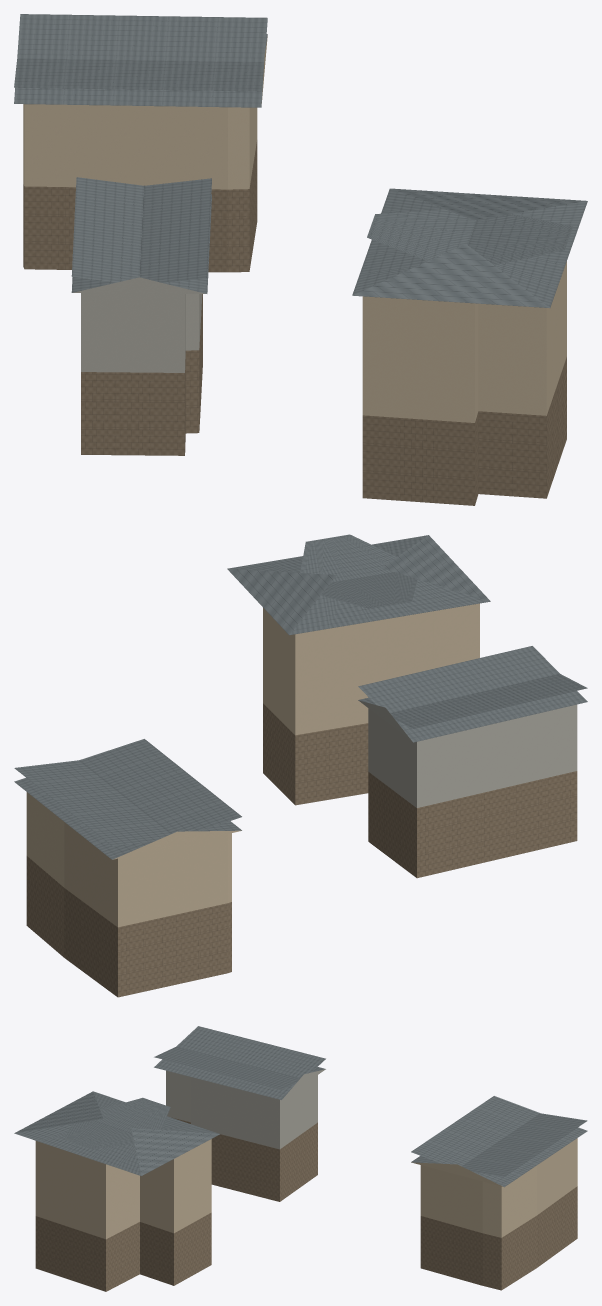
The model's file is bld_c32_-40_451.gltf.
The picture shows the model from 3 angles, top to bottom: view 1: azimuth 30°, elevation 25°; view 2: azimuth 150°, elevation 25°; view 3: azimuth 270°, elevation 25°; orthographic projection. The views are drawn at different scales.
Parts seen in each view (by area): view 1: bld_c32_-40_451; view 2: bld_c32_-40_451; view 3: bld_c32_-40_451.
Boxes of the visible parts, x1=… form: bld_c32_-40_451: x1=14, y1=14, x2=587, y2=505; bld_c32_-40_451: x1=14, y1=534, x2=587, y2=997; bld_c32_-40_451: x1=14, y1=1026, x2=587, y2=1291.
Size of the model in its own units: 30.38 by 13.7 by 50.45.
6 materials, 6 textured.
